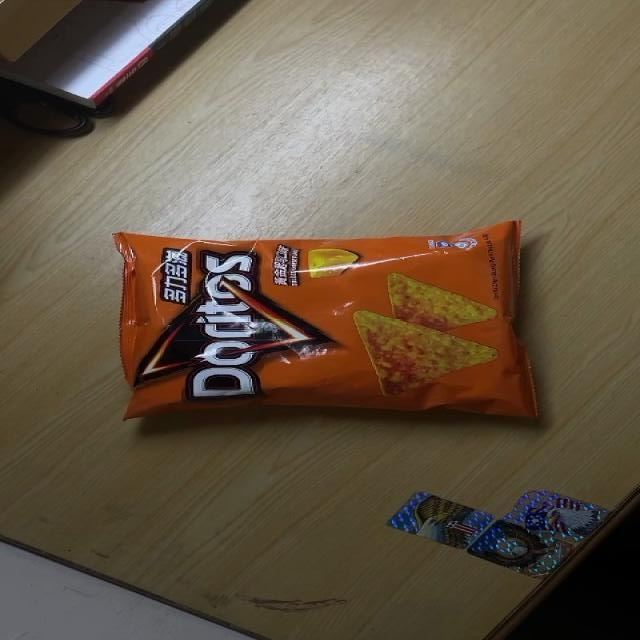Doritos: (108, 218, 538, 426)
